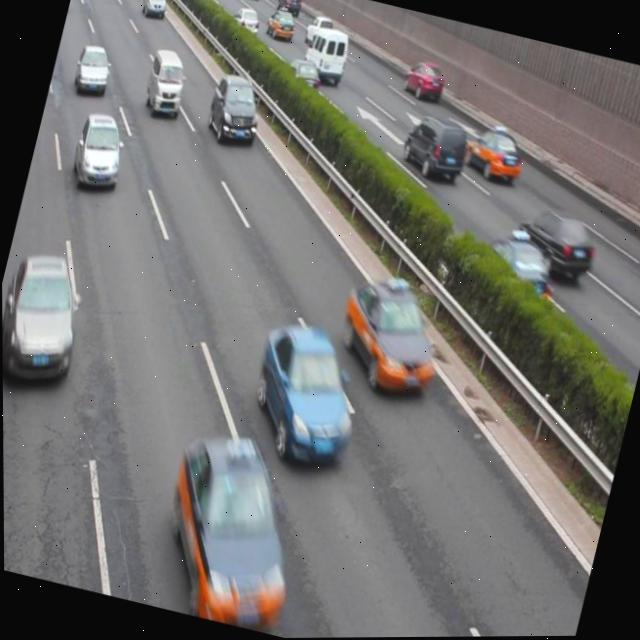car: (144, 425, 317, 636), (239, 314, 372, 468), (329, 269, 448, 396), (1, 246, 93, 392), (468, 221, 558, 304), (512, 202, 599, 284), (200, 69, 267, 149), (68, 110, 132, 193), (460, 115, 530, 187), (70, 43, 115, 97), (401, 57, 447, 104), (279, 54, 324, 98), (264, 3, 297, 42), (302, 11, 333, 49), (229, 4, 263, 35), (140, 0, 170, 18), (274, 0, 303, 17)
truck: (396, 108, 472, 186), (141, 46, 192, 120), (301, 24, 353, 84)
